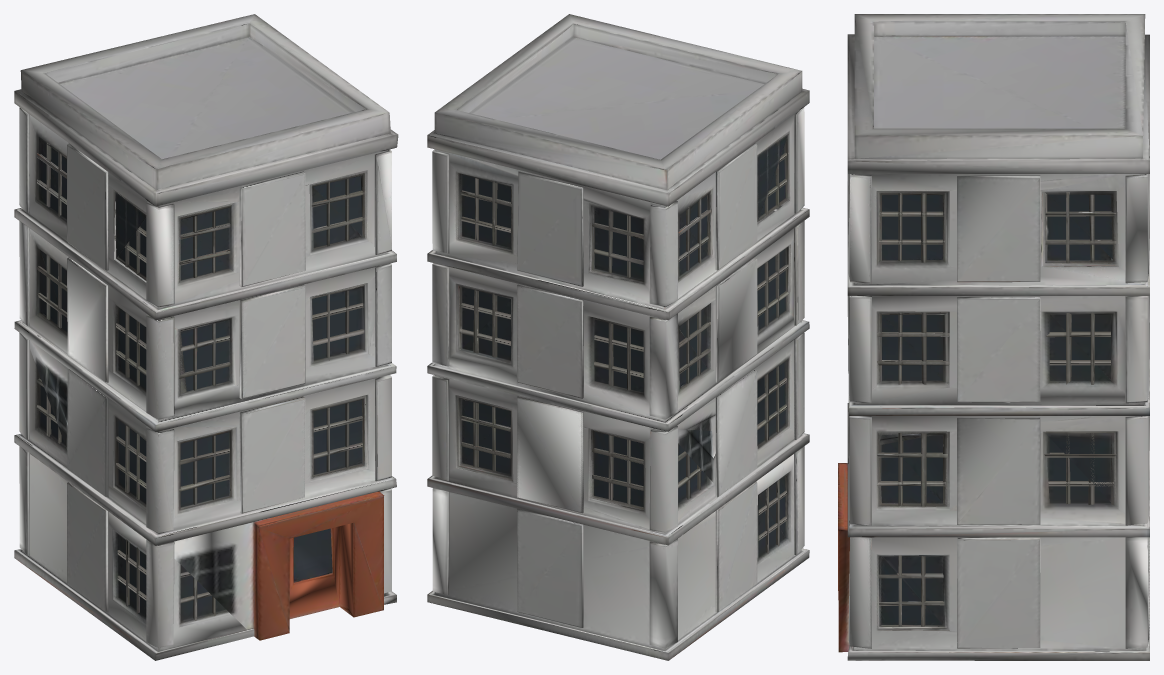
The model's file is apartment.glb.
The picture shows the model from 3 angles, left to right: view 1: azimuth 30°, elevation 25°; view 2: azimuth 150°, elevation 25°; view 3: azimuth 270°, elevation 25°; orthographic projection. The views are drawn at different scales.
Visible parts, largest first — view 1: geometry_0; view 2: geometry_0; view 3: geometry_0.
Boxes of the visible parts, x1,y1,x2,y2 form: geometry_0: [14, 14, 398, 660]; geometry_0: [427, 14, 809, 660]; geometry_0: [838, 14, 1149, 660].
Size of the model in its own units: 0.4946 by 0.9517 by 0.5141.
1 material, 1 textured.
